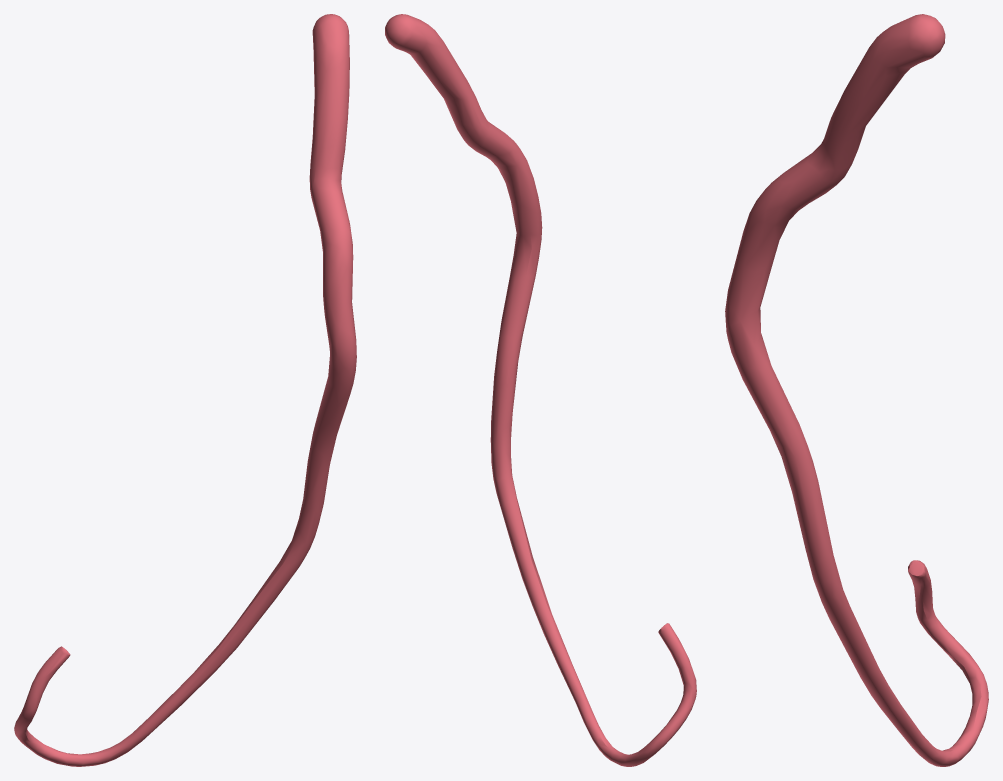
The model's file is fma66358_fj3644.glb.
3 renders of one model, left to right at view 1: azimuth 30°, elevation 25°; view 2: azimuth 150°, elevation 25°; view 3: azimuth 270°, elevation 25°, orthographic. The views are drawn at different scales.
Parts seen in each view (by area): view 1: FMA66358_FJ3644; view 2: FMA66358_FJ3644; view 3: FMA66358_FJ3644.
Part boxes in pixels (x1=…): FMA66358_FJ3644: x1=14, y1=14, x2=356, y2=766; FMA66358_FJ3644: x1=385, y1=14, x2=696, y2=766; FMA66358_FJ3644: x1=725, y1=14, x2=988, y2=766.
Size of the model in its own units: 0.0695 by 0.1453 by 0.0391.
